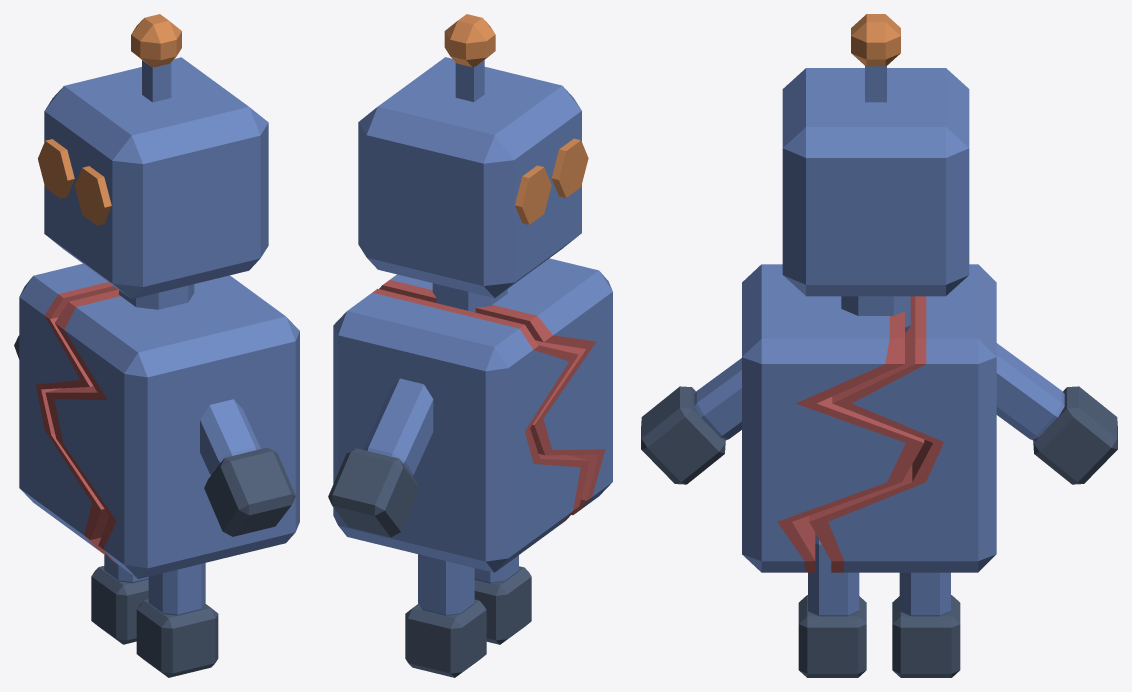
File: RobotOrderRed.fbx
3 renders of one model, left to right at view 1: azimuth 30°, elevation 25°; view 2: azimuth 150°, elevation 25°; view 3: azimuth 270°, elevation 25°, orthographic. The views are drawn at different scales.
Parts seen in each view (by area): view 1: BodyRed, HeadRed, LegsRed, HandsRed; view 2: BodyRed, HeadRed, LegsRed, HandsRed; view 3: BodyRed, HeadRed, HandsRed, LegsRed.
Part boxes in pixels (left/top/right/bottom): BodyRed: left=19, top=263, right=299, bottom=579; HeadRed: left=38, top=14, right=268, bottom=309; LegsRed: left=91, top=554, right=218, bottom=677; HandsRed: left=14, top=335, right=295, bottom=536; BodyRed: left=333, top=258, right=612, bottom=572; HeadRed: left=358, top=14, right=588, bottom=312; LegsRed: left=405, top=554, right=531, bottom=677; HandsRed: left=328, top=378, right=433, bottom=537; BodyRed: left=742, top=264, right=996, bottom=572; HeadRed: left=782, top=14, right=969, bottom=332; HandsRed: left=641, top=343, right=1117, bottom=484; LegsRed: left=798, top=533, right=960, bottom=677.
Bounding box in the file's own units: 19.42 × 66.44 × 44.24.
